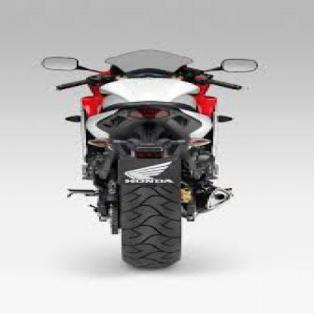Motocicleta: (36, 45, 280, 282)
